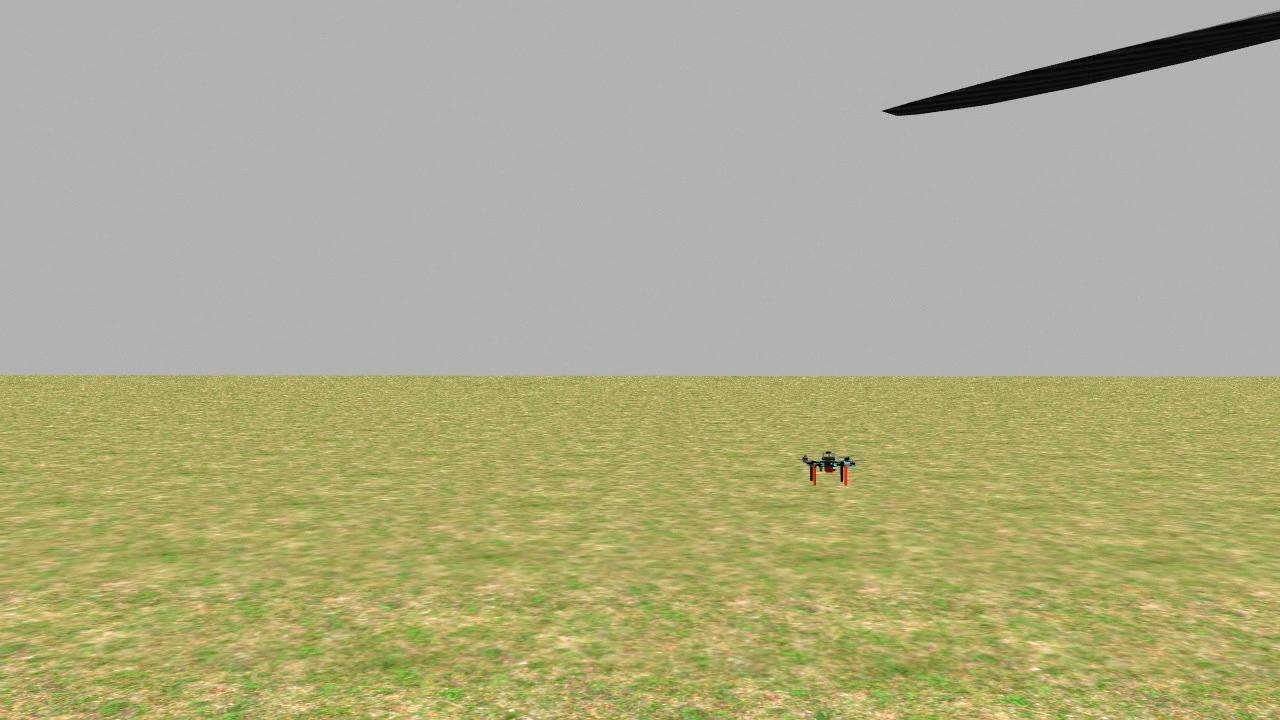UAV: (785, 434, 859, 509)
